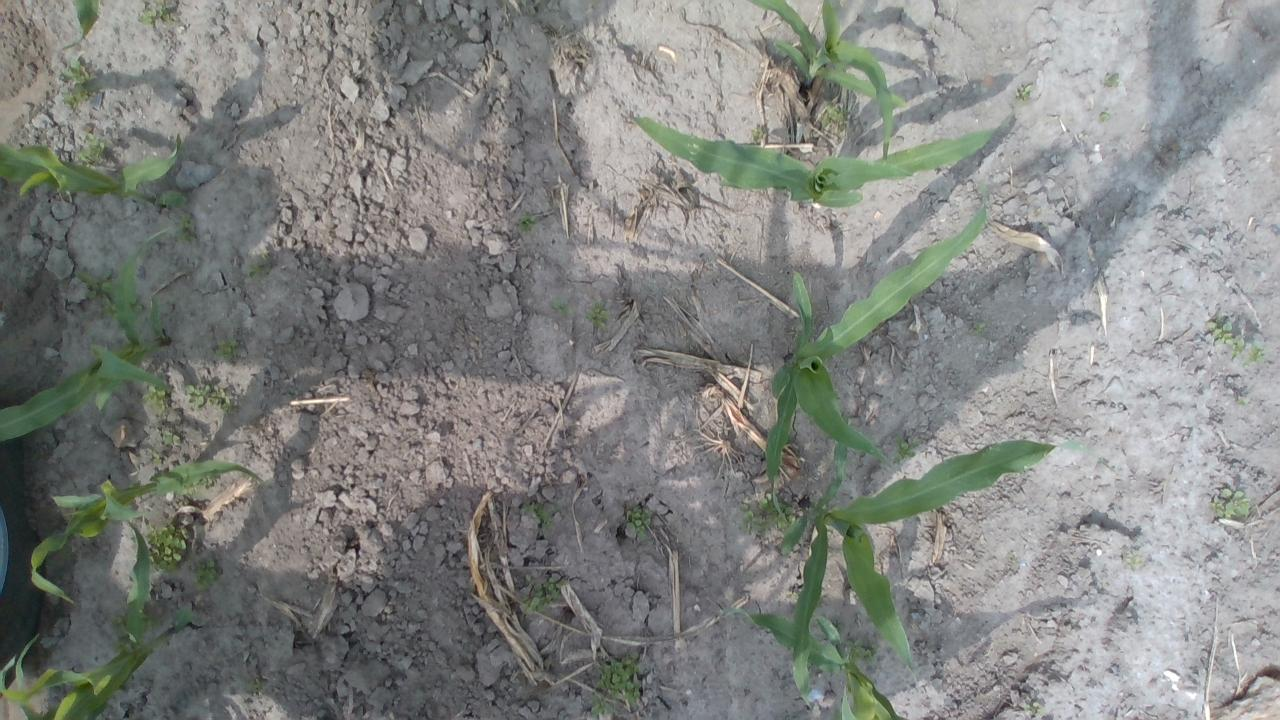Maize: (780, 437, 1094, 708), (766, 183, 990, 524), (632, 107, 1014, 209), (0, 226, 180, 442), (32, 457, 264, 602), (742, 0, 908, 160), (0, 601, 193, 720), (720, 606, 909, 720), (0, 134, 189, 212), (62, 0, 102, 51)
Weeds: (590, 652, 641, 715), (740, 492, 796, 534), (142, 523, 186, 576), (76, 268, 118, 320), (183, 382, 238, 416), (519, 574, 563, 615), (63, 57, 96, 111), (1208, 486, 1250, 520), (110, 610, 136, 656), (190, 558, 223, 593), (844, 638, 882, 666), (76, 134, 106, 168), (142, 382, 168, 418), (520, 498, 551, 528), (894, 431, 922, 463), (626, 503, 651, 536), (1206, 313, 1232, 343), (820, 102, 849, 128), (584, 301, 610, 330), (245, 251, 272, 278), (137, 4, 169, 25), (214, 337, 241, 361), (176, 213, 197, 242), (1242, 344, 1266, 368), (1226, 336, 1245, 358), (143, 612, 162, 632), (245, 675, 268, 691), (552, 295, 570, 315), (519, 214, 537, 233), (160, 431, 178, 450), (129, 294, 143, 318), (1023, 700, 1043, 715), (1126, 552, 1144, 568), (1016, 84, 1032, 102), (192, 476, 214, 487), (1103, 73, 1119, 86), (974, 320, 986, 336), (751, 127, 764, 140), (151, 453, 162, 465), (1100, 111, 1112, 122), (1238, 398, 1248, 406)
